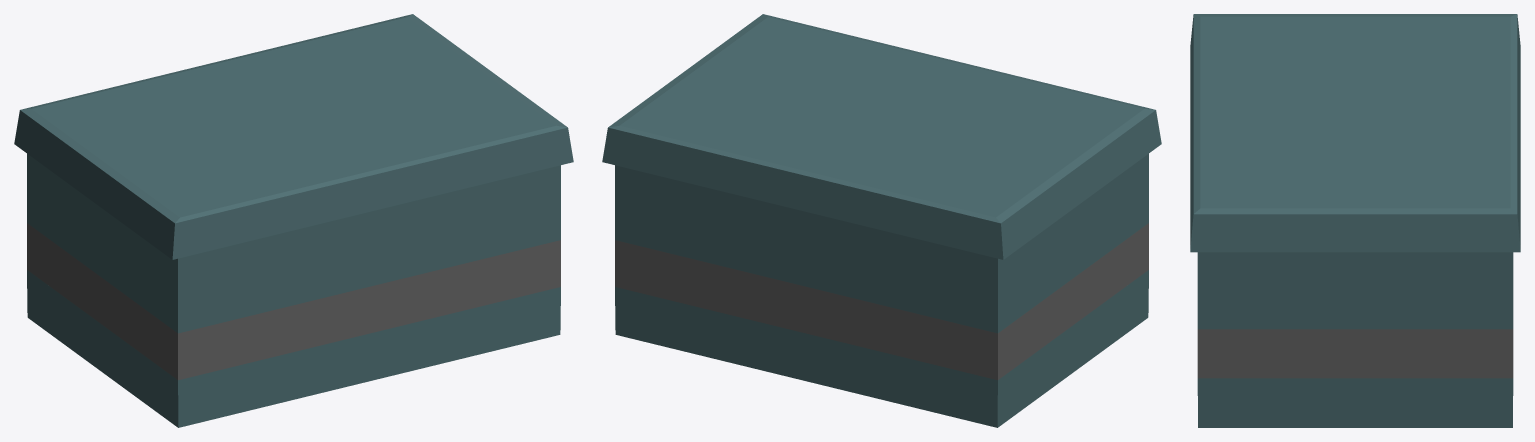
The model's file is WardrobeBox.fbx.
3 renders of one model, left to right at view 1: azimuth 30°, elevation 25°; view 2: azimuth 150°, elevation 25°; view 3: azimuth 270°, elevation 25°, orthographic. The views are drawn at different scales.
Visible parts, largest first — view 1: Cube.046; view 2: Cube.046; view 3: Cube.046.
Boxes of the visible parts, x1,y1,x2,y2 form: Cube.046: (14,14,573,427); Cube.046: (602,14,1161,427); Cube.046: (1190,14,1520,427).
Bounding box in the file's own units: 47.54 × 23.65 × 32.5.
